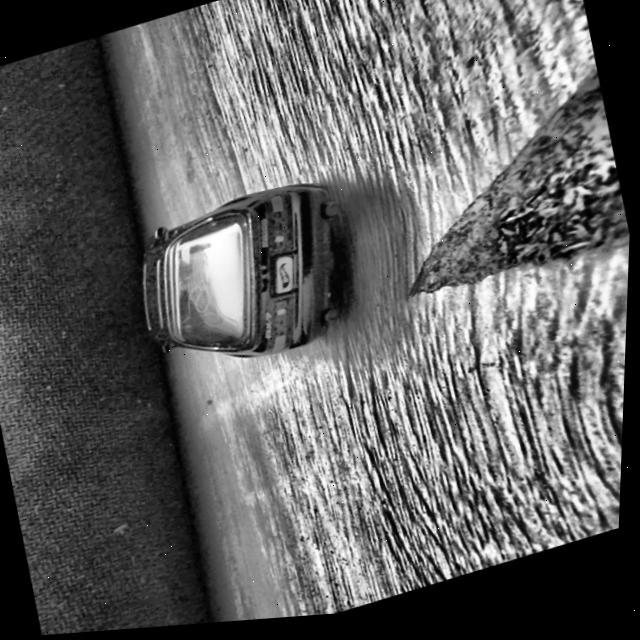car: (124, 171, 369, 394)
